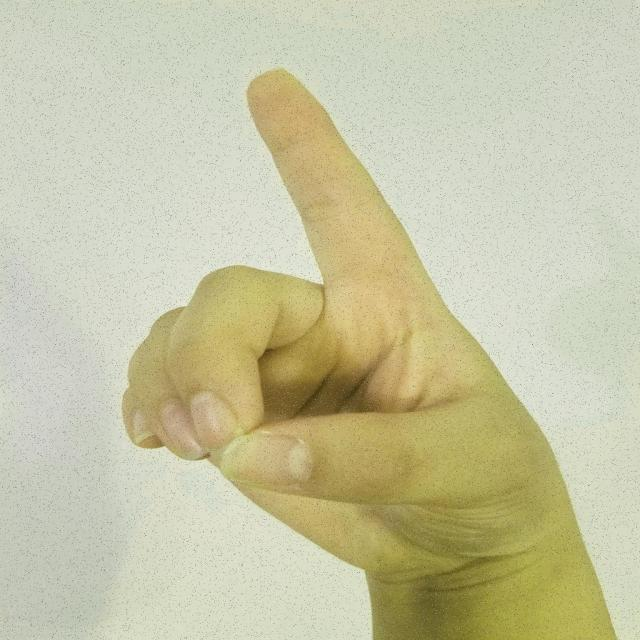D: (112, 60, 596, 586)
